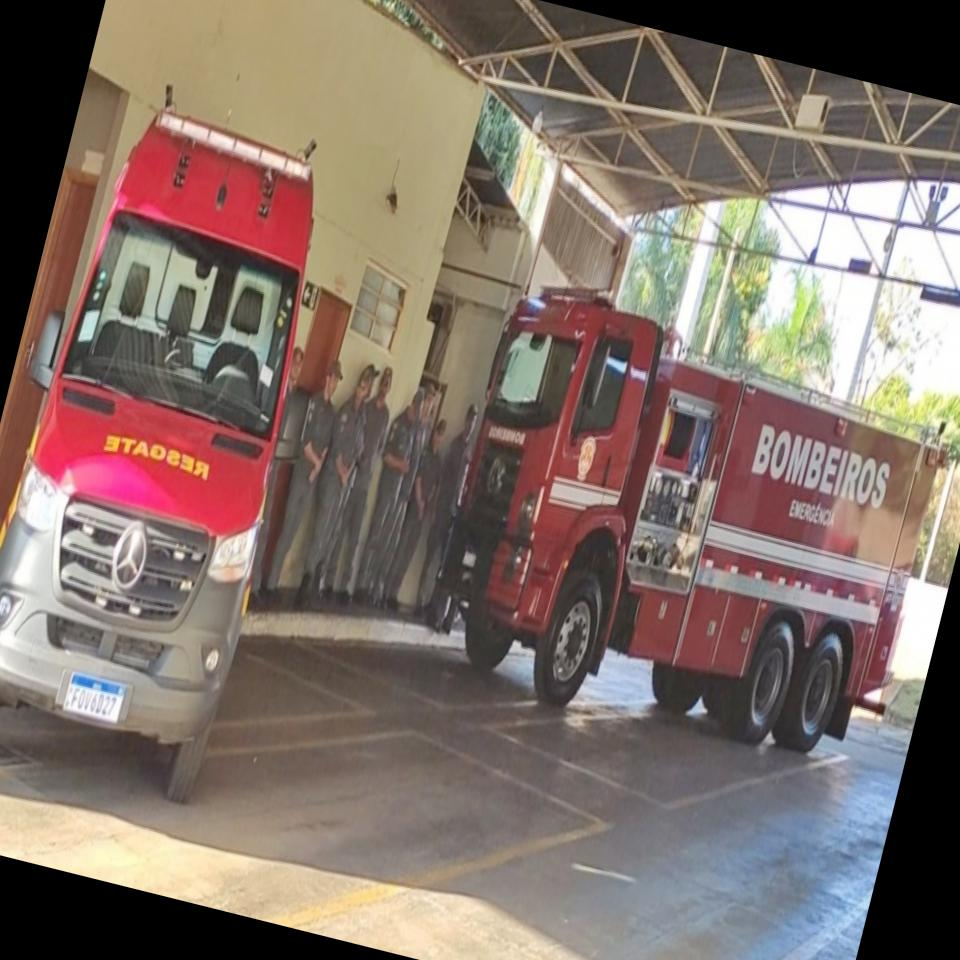viatura: (410, 263, 960, 791), (0, 83, 362, 822)
